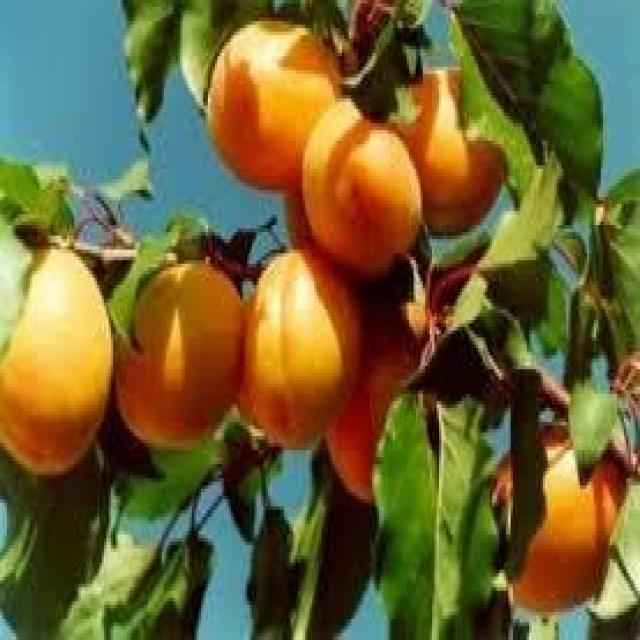kayisi: (0, 243, 119, 482), (234, 244, 363, 454), (199, 16, 345, 194), (300, 94, 425, 295), (115, 261, 244, 447)
yaprak: (410, 161, 571, 428), (440, 0, 605, 236), (365, 384, 503, 640), (112, 0, 183, 138), (172, 0, 272, 97)
